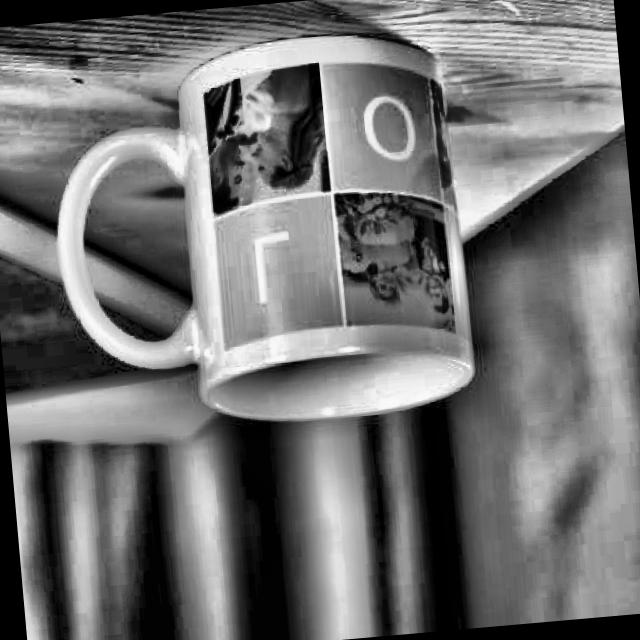Mug: (40, 24, 482, 446)
